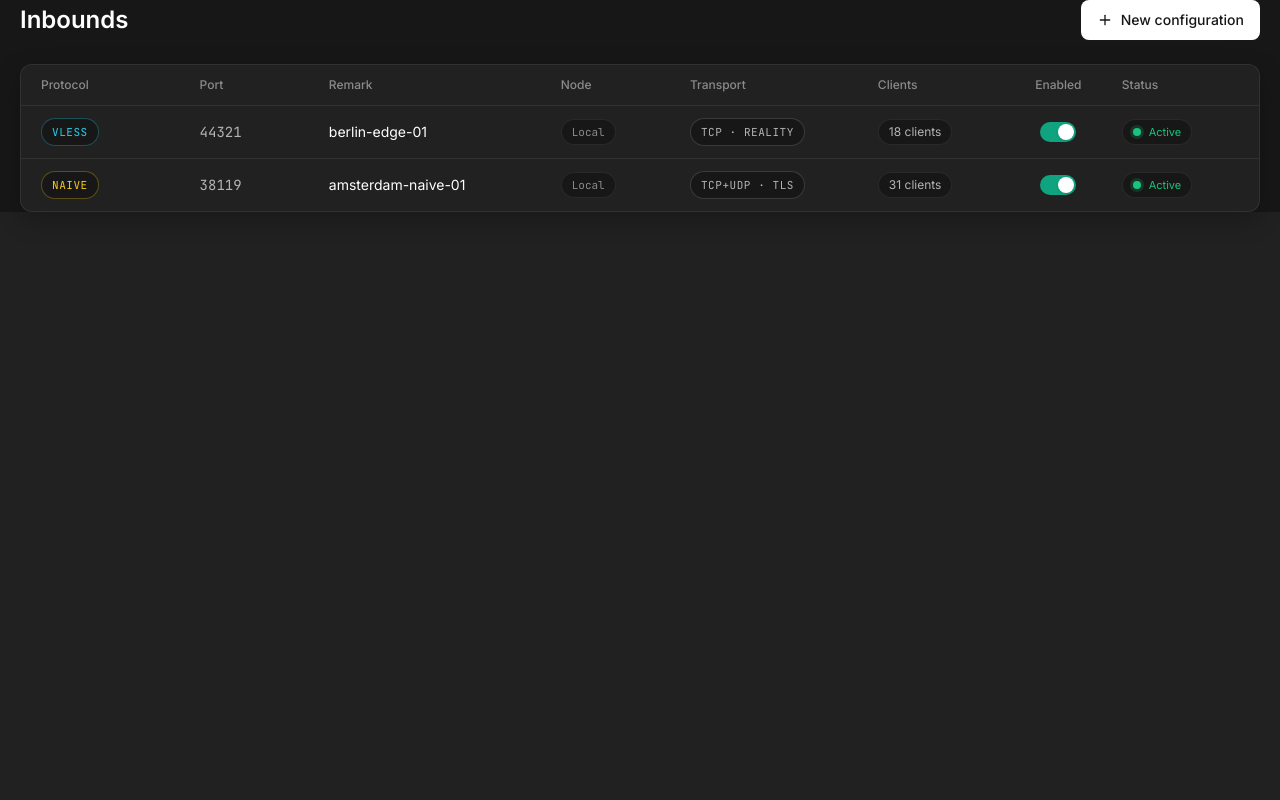
Test: opens inbound rows directly in edit mode and starts clone mode from the modal
Click the text "berlin-edge-01" at (378, 132), box [329, 123, 427, 140]
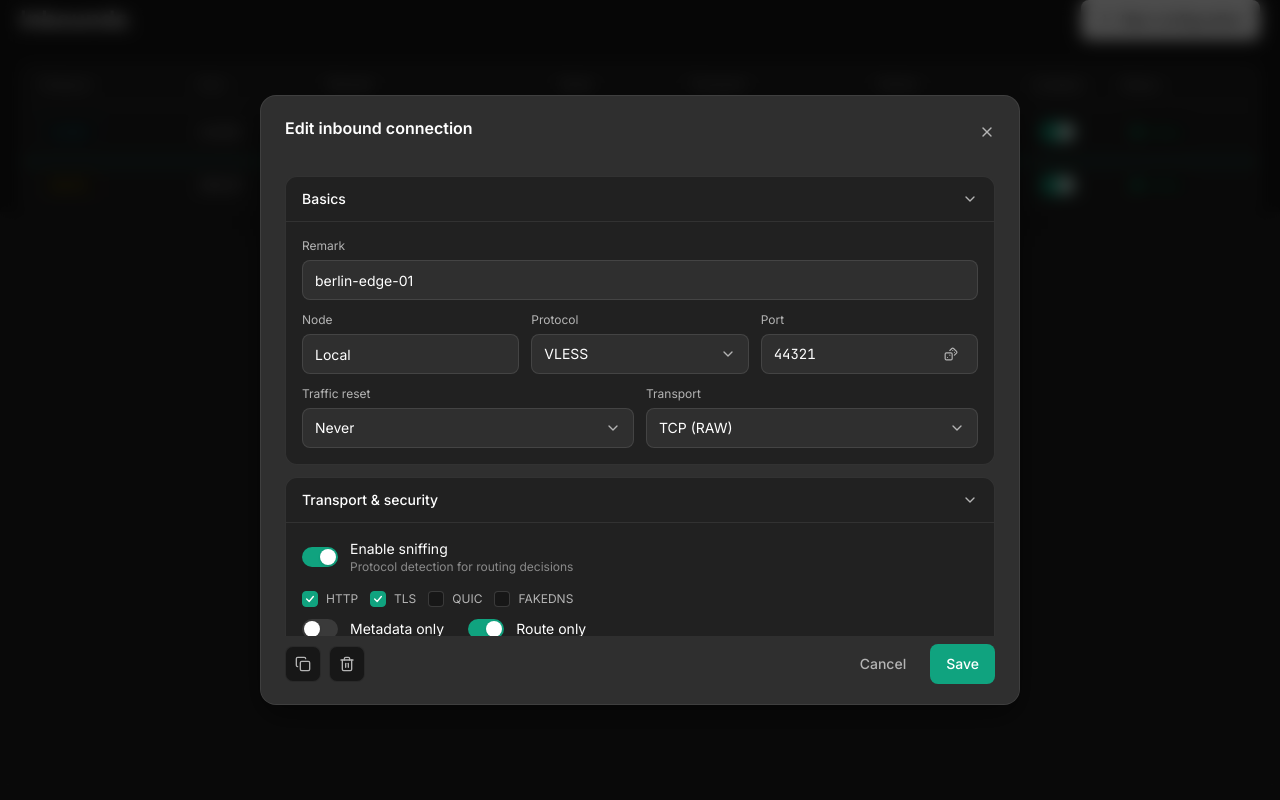
Now the heading "Edit inbound connection" is shown, box [285, 116, 473, 140]
Click the button named "Clone" at (303, 664), box [285, 646, 321, 682]
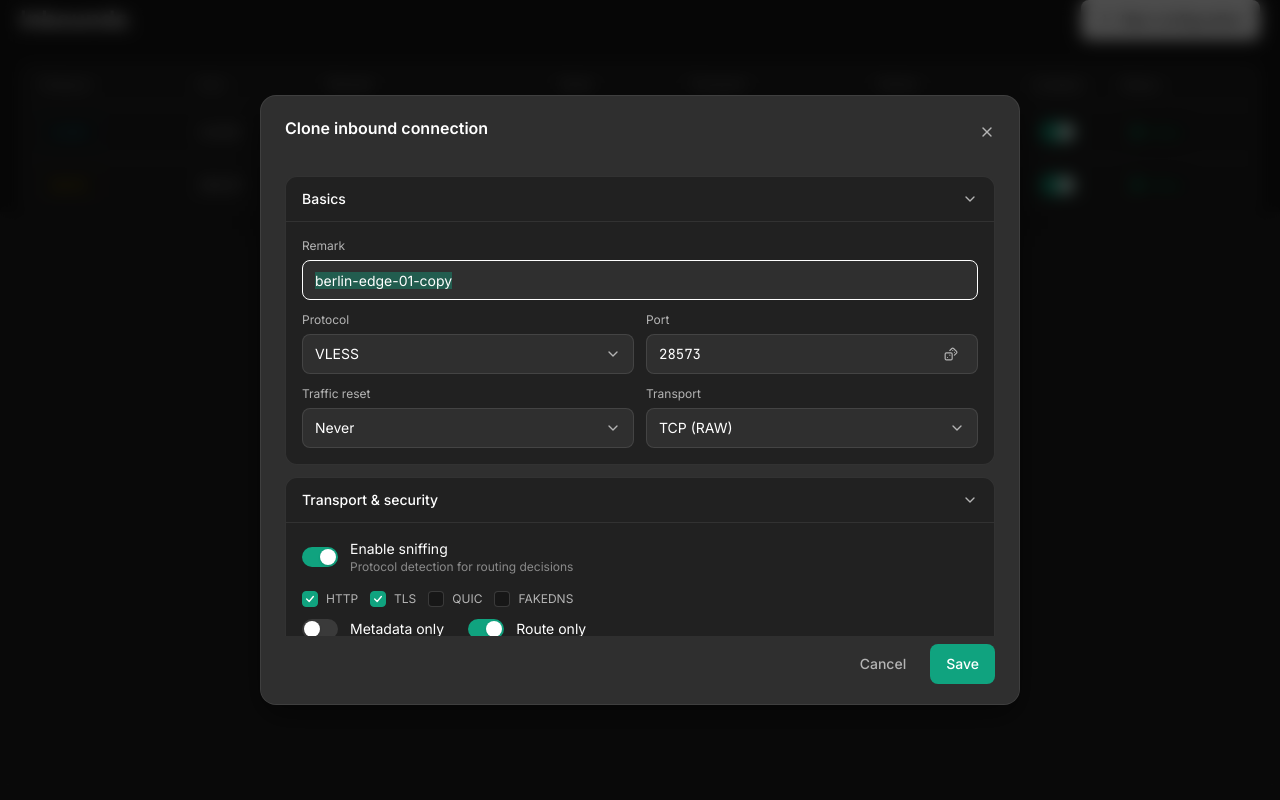
Now the heading "Clone inbound connection" is shown, box [285, 116, 488, 140]
Now the field showing "berlin-edge-01-copy" is shown, box [315, 261, 965, 299]
